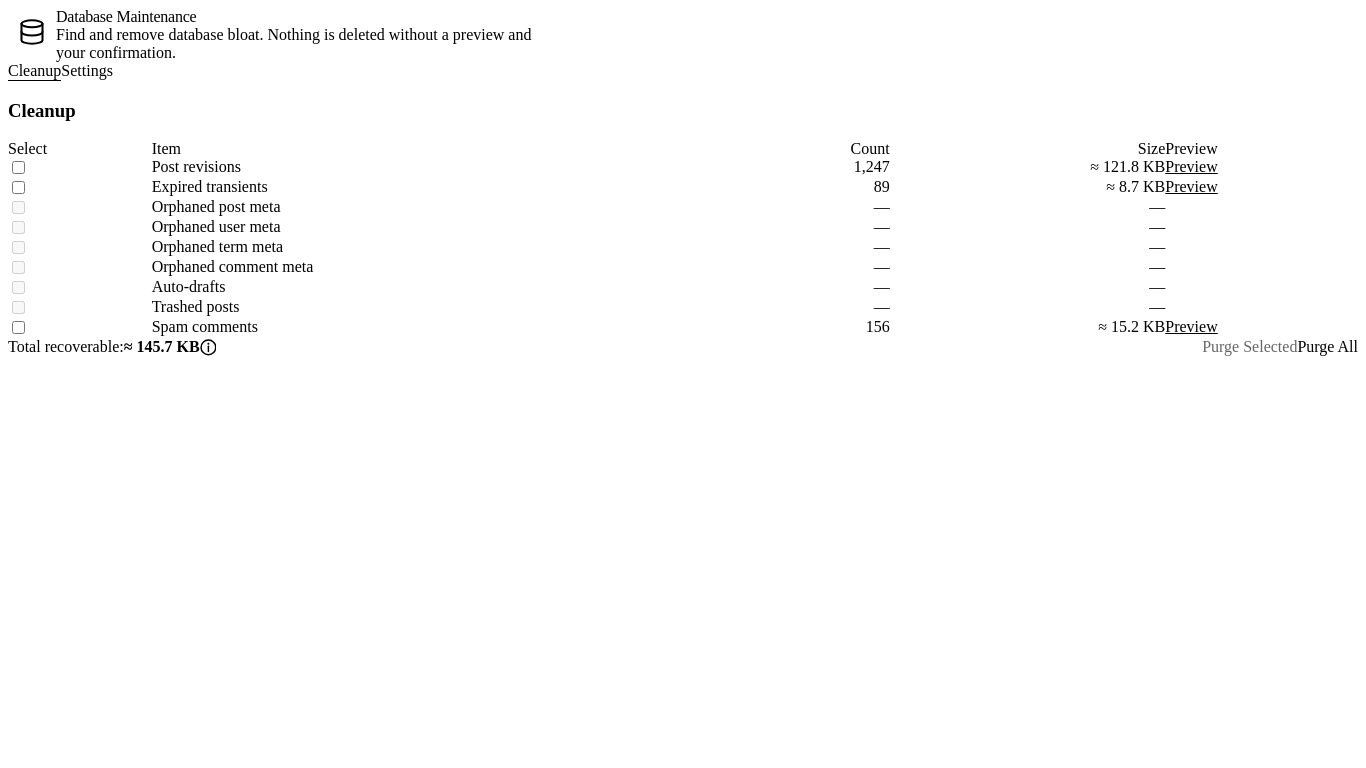
it: CleanupView › refreshes counts before confirming so the dialog shows the fresh number
The image size is (1366, 768).
Click the checkbox labelled "Spam comments" at (18, 328), box [12,321,25,334]
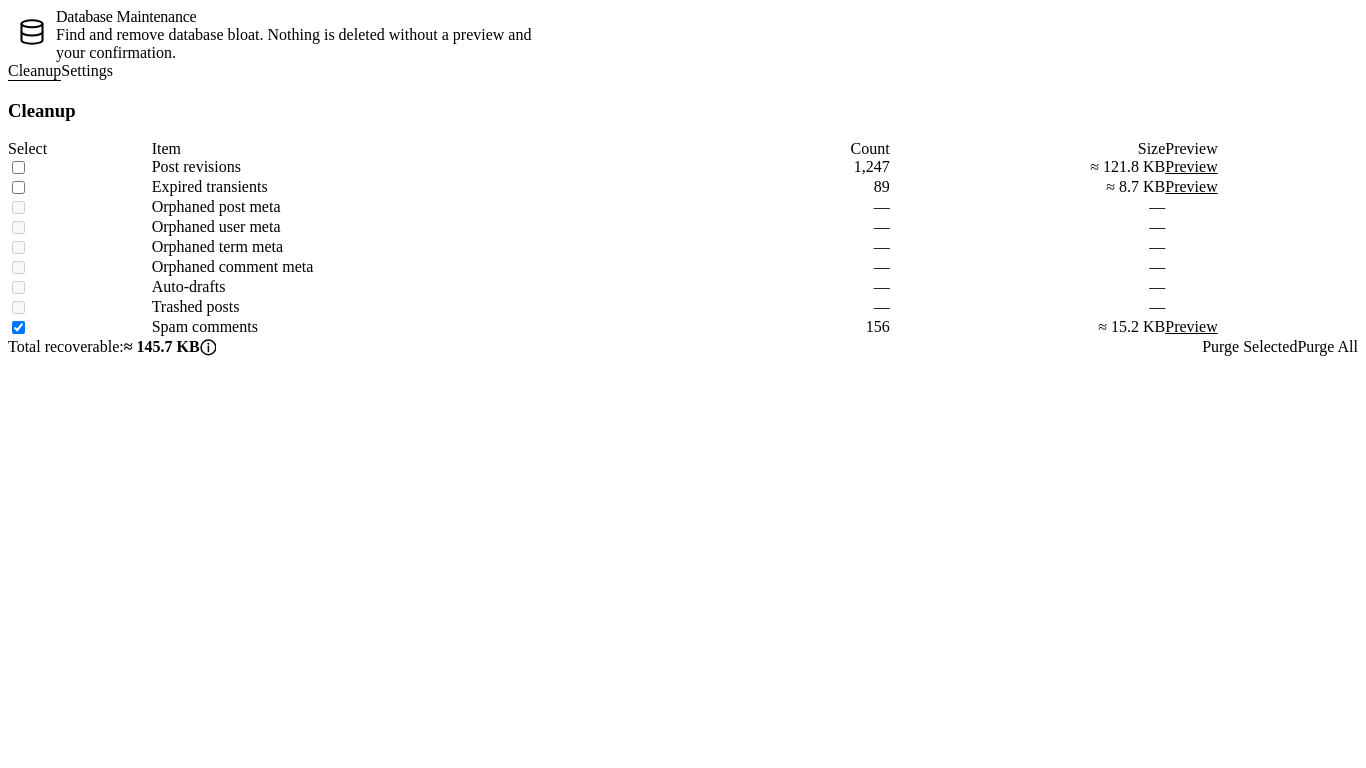
Click the button "Purge Selected" at (1250, 347), box [1202,338,1297,356]
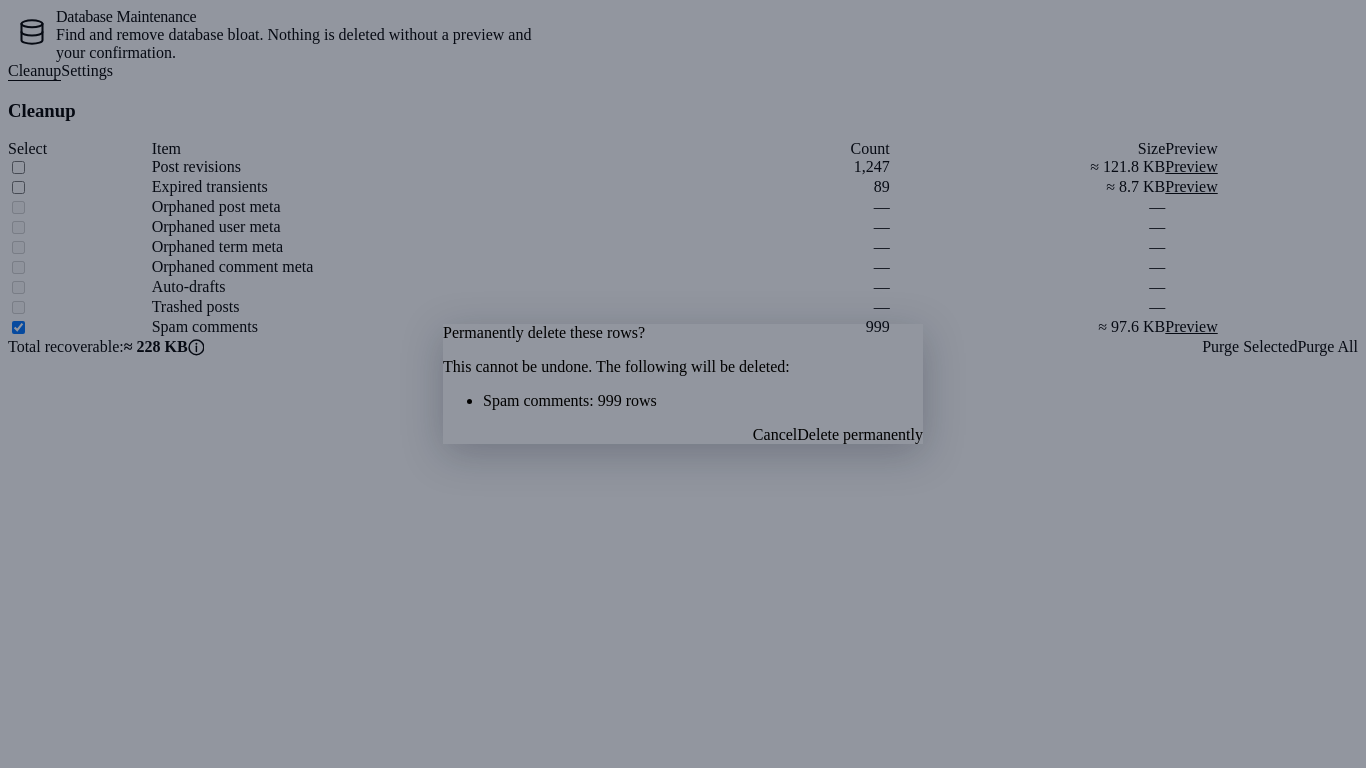
Result: the dialog shows "999" at [483,392,657,409]
Result: the cell no longer shows "156"
